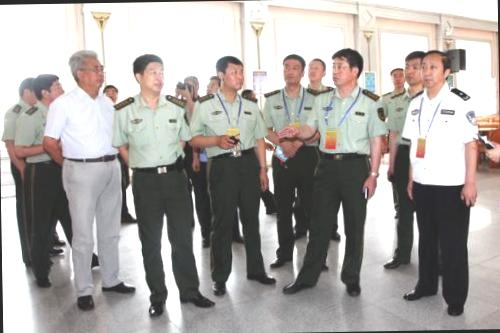no_helmet: (65, 45, 106, 94), (131, 49, 169, 96), (328, 46, 366, 90), (214, 51, 249, 95), (416, 48, 447, 92), (33, 68, 67, 107), (406, 47, 433, 87), (280, 51, 308, 88), (175, 71, 199, 109), (305, 57, 328, 87), (18, 74, 36, 110), (205, 74, 223, 102), (388, 66, 406, 90), (100, 84, 120, 105)
